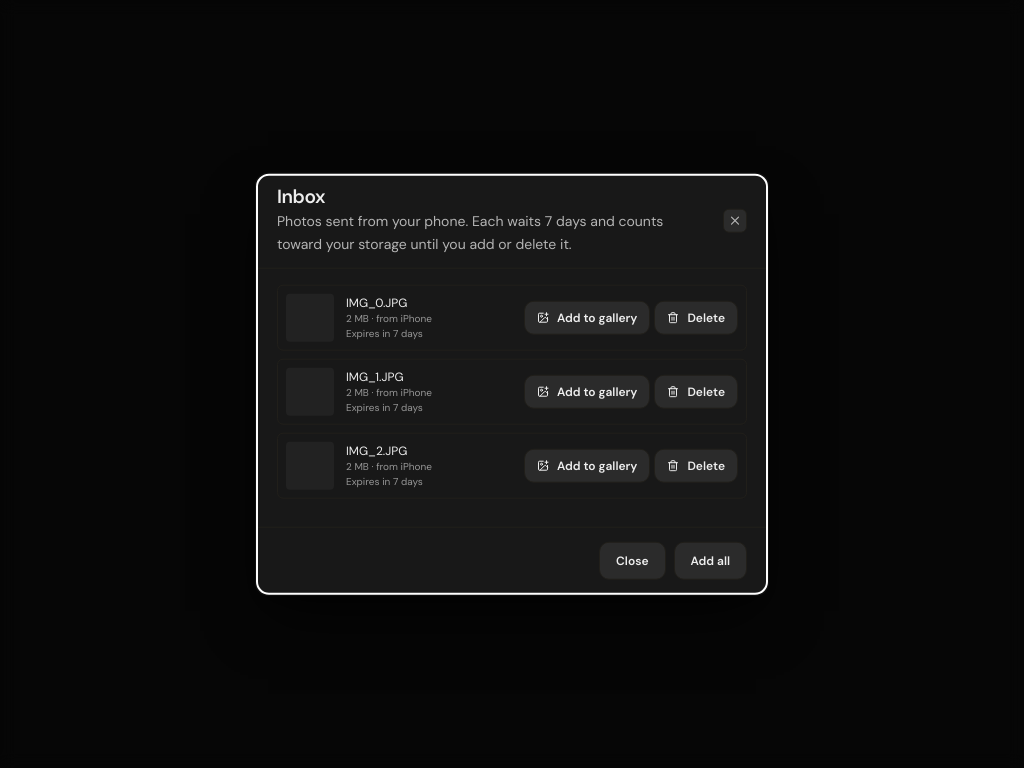
editor: the Inbox › a failed import stays with its error; a full gallery says how many are left
The width and height of the screenshot is (1024, 768).
Click the button "Add all" at (710, 560), box [674,541,747,579]
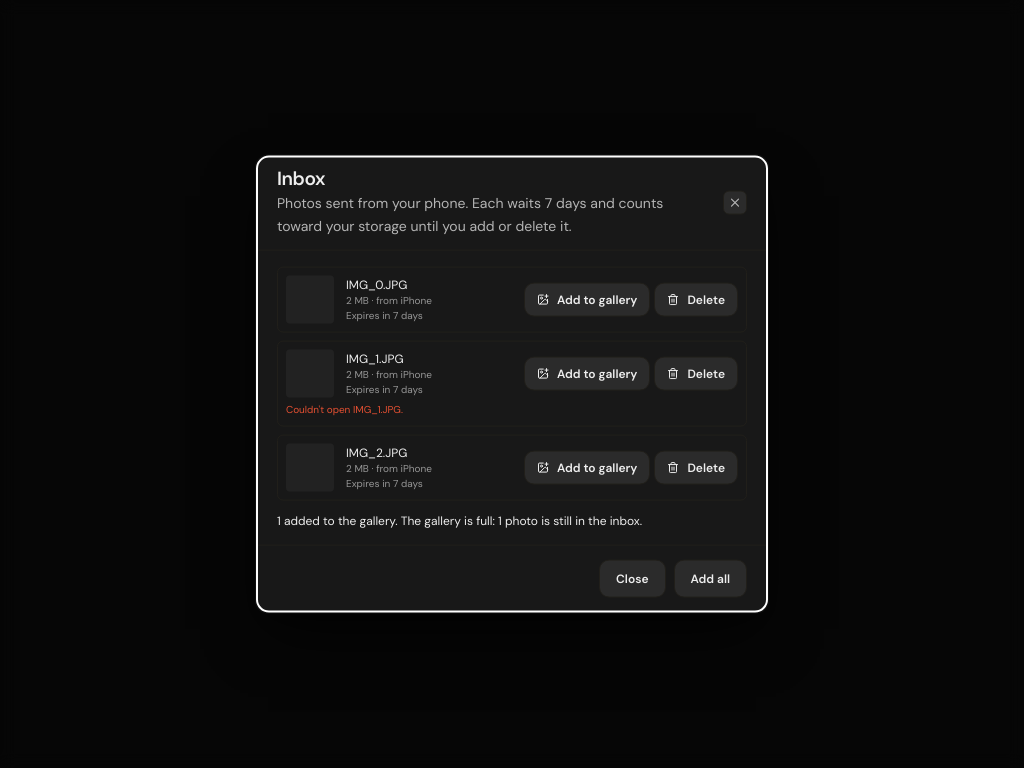
Expected: the text "Couldn't open IMG_1.JPG." is shown, [286,402,403,415]
Expected: the text "1 added to the gallery. The gallery is full: 1 photo is still in the inbox." is shown, [277,512,642,528]
